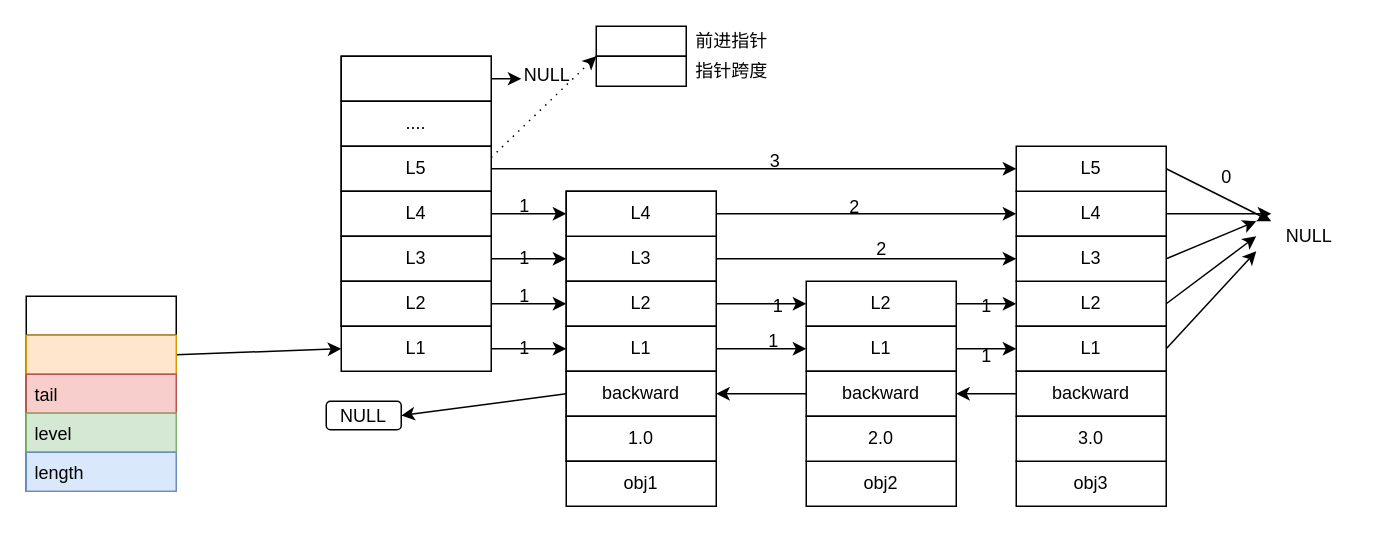
The diagram is 1373 pixels wide and 533 high, and some of its shapes have lost their labels. The shapes that lost their labels are listed below. From the top down, each one's box as (x1, y1, x2, y2) in pixels, then its label:
(595, 25, 686, 56): forward
(340, 55, 491, 101): L32
(595, 55, 686, 86): span
(25, 334, 176, 374): header
(25, 295, 176, 491): zskiplish
